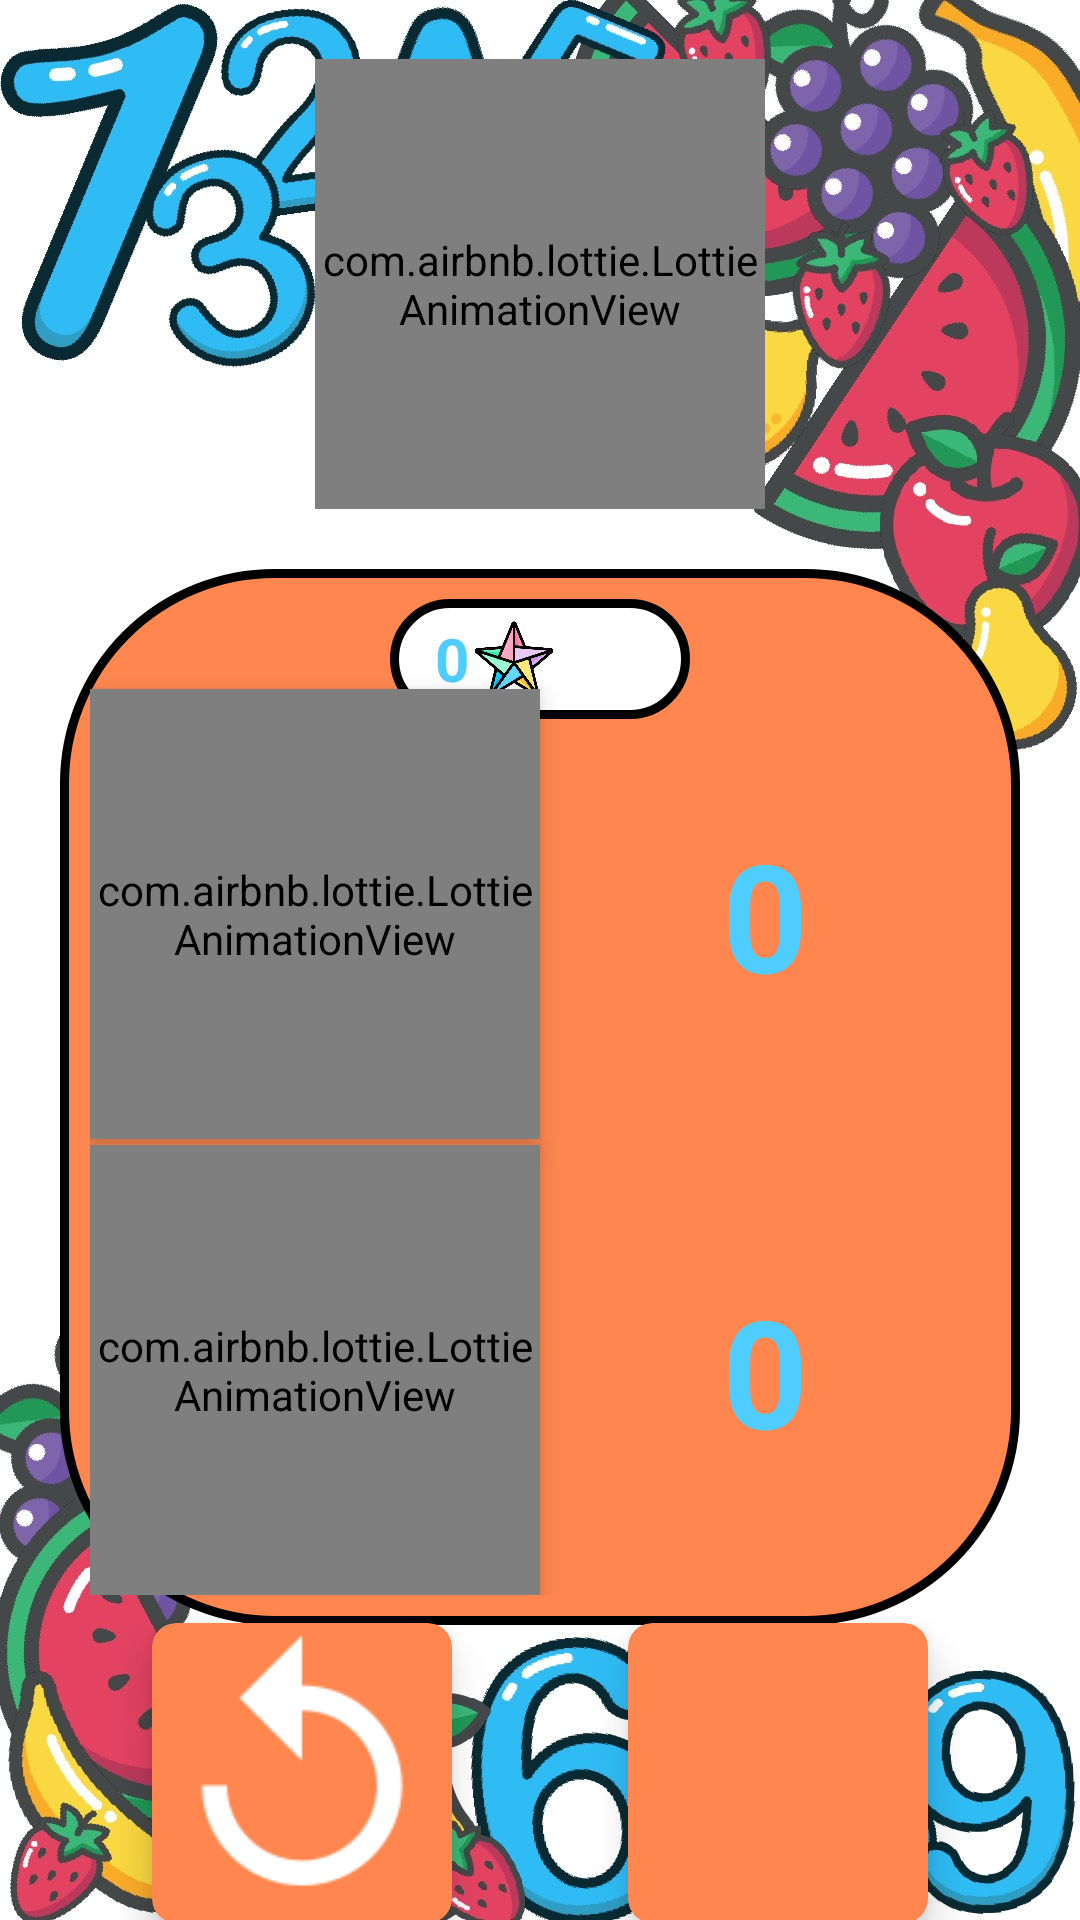

Icons on this 1080px×1920px Android screen, each with the point to tap as [x,y]:
replay: [302,1771]
star: [511,662]
